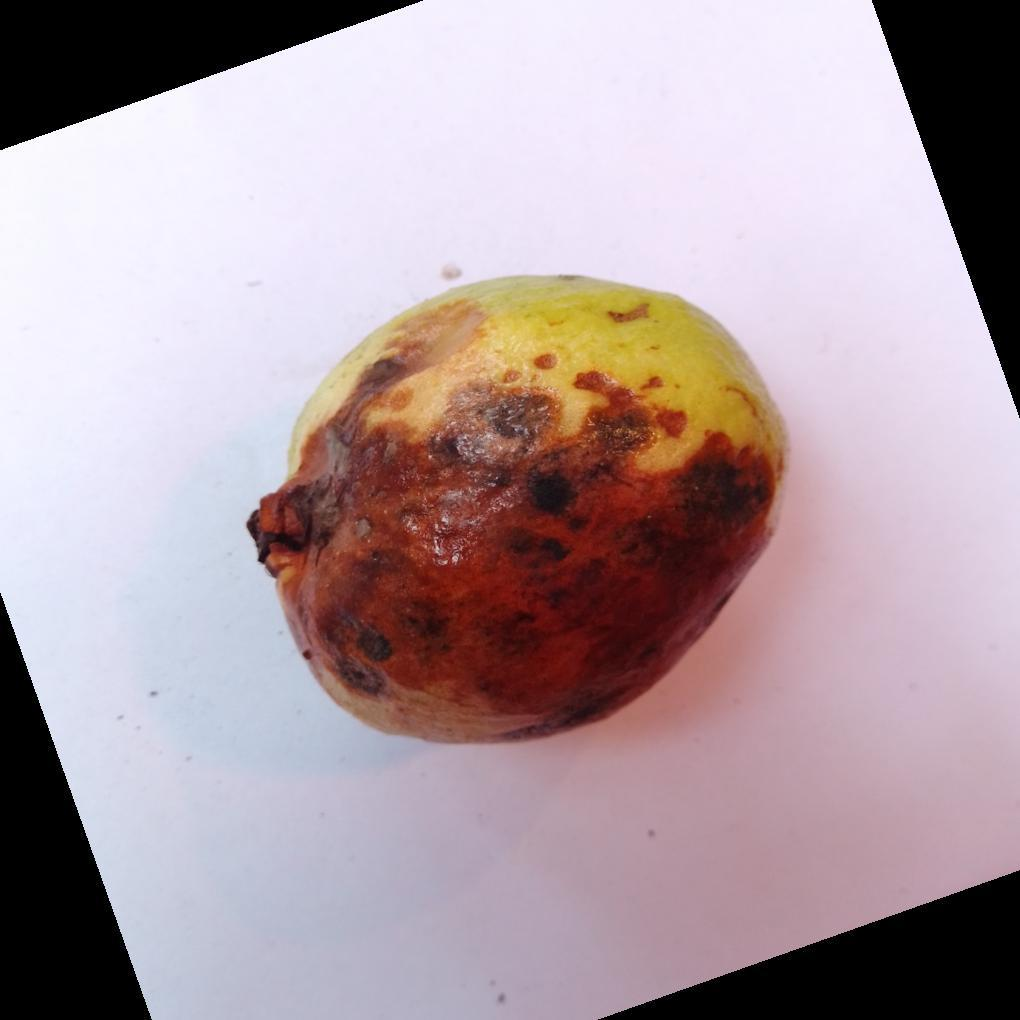FreshOrange: (245, 275, 789, 749)
